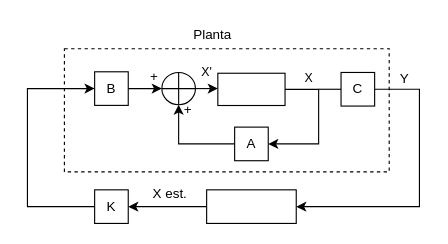
Image size: 448x244. Some labels were removed from this diagram. Each missing label, with the centre of its shape:
"Integrador" belongs at point 251,89.
"Observador" belongs at point 251,206.
